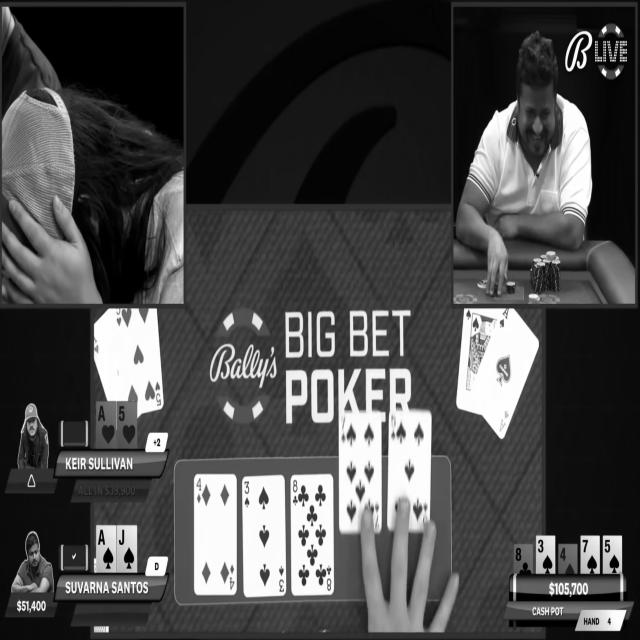3S: (536, 536, 555, 575)
4D: (559, 545, 577, 575)
5H: (117, 401, 137, 449)
5S: (603, 536, 622, 574)
7S: (581, 537, 600, 575)
8C: (514, 544, 533, 574)
AH: (97, 402, 116, 450)
AS: (97, 526, 116, 572)
JD: (118, 526, 136, 572)
